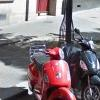Motorcycle: (23, 41, 94, 100)
